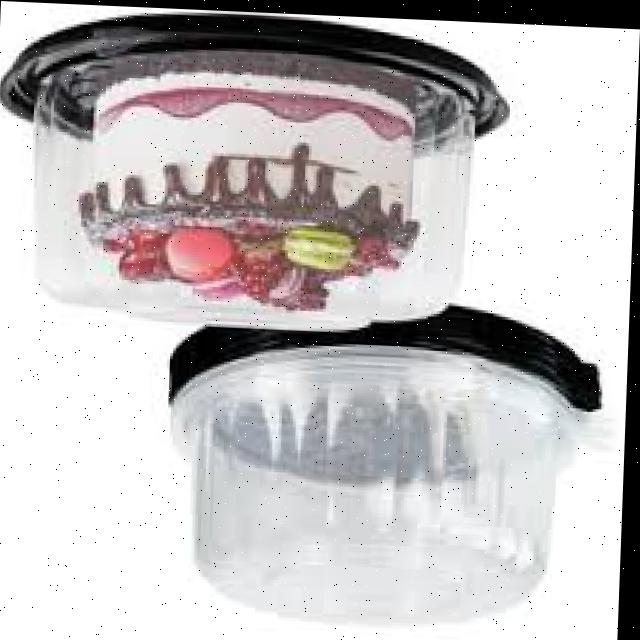disposable: (0, 0, 518, 334), (151, 321, 594, 640)
